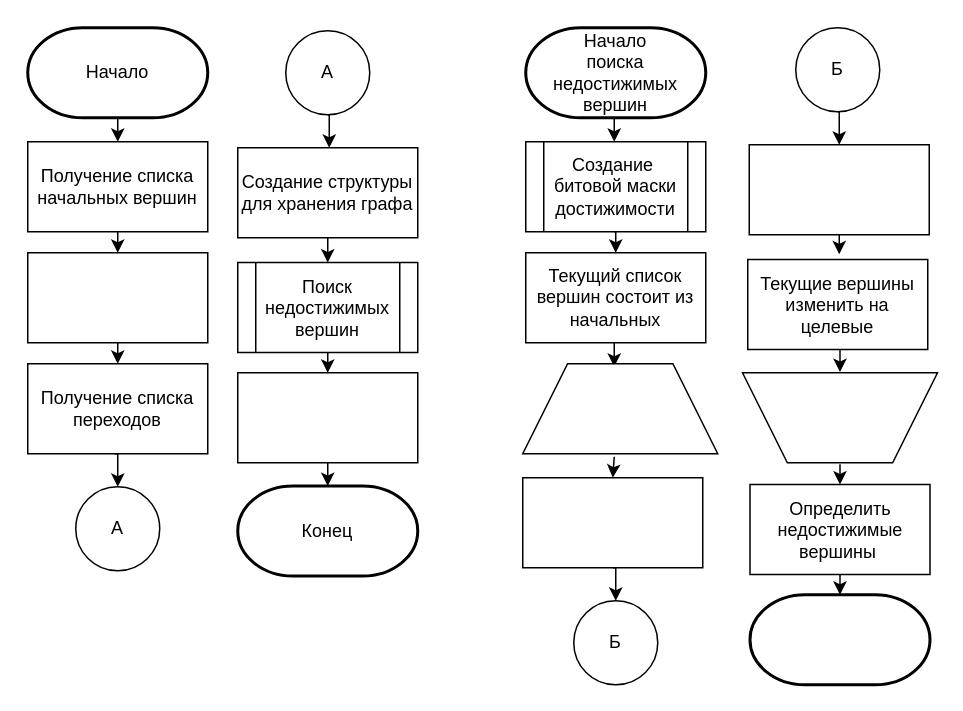
Some shapes in this 963 by 711 pixel diagram are drawn without their labels. Each missing label, with the box of its shape:
Вывод списка недостижимых вершин: (236, 371, 418, 463)
Конец поиска недостижимых вершин: (748, 592, 931, 686)
Конец цикла: (741, 371, 938, 463)
Найти все переходы из текущих вершин: (521, 476, 703, 568)
Отметить целевые вершины в маске достижимости: (748, 143, 929, 235)
Пока текущий список вершин не пуст: (521, 362, 718, 454)
Получение списка вершин: (26, 251, 208, 343)
